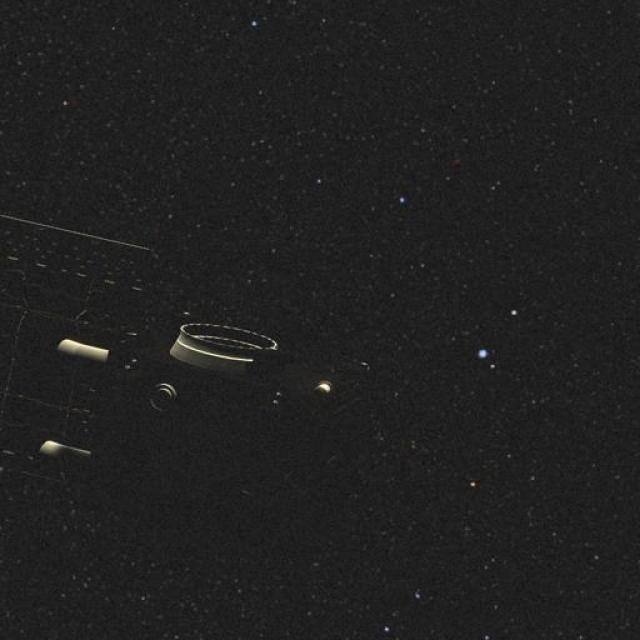proba_3_csc: (0, 218, 367, 521)
